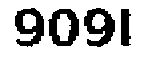0: (48, 7, 82, 48)
9: (83, 7, 116, 52), (12, 7, 46, 50)
I: (118, 5, 137, 51)
